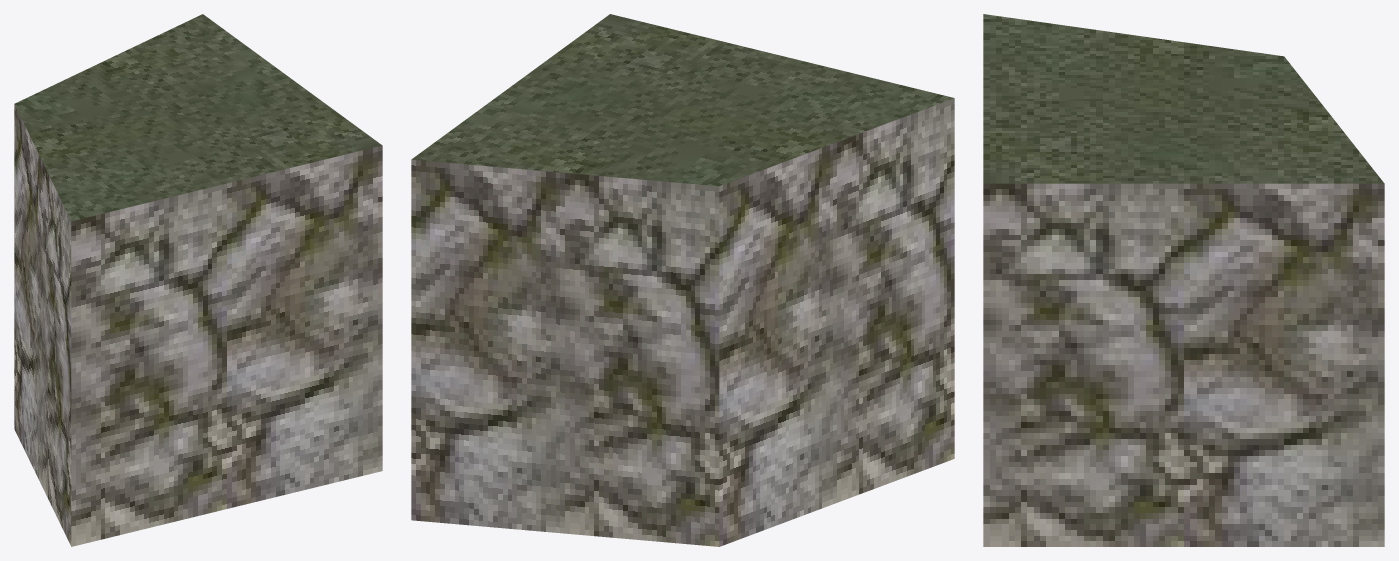
Rendered from kenney-retro-urban-cliff-corner.glb.
3 views of the same model, side by side, from view 1: azimuth 30°, elevation 25°; view 2: azimuth 150°, elevation 25°; view 3: azimuth 270°, elevation 25° (orthographic). The views are drawn at different scales.
Parts seen in each view (by area): view 1: cliff-corner; view 2: cliff-corner; view 3: cliff-corner.
Boxes of the visible parts, x1,y1,x2,y2 form: cliff-corner: (14,14,382,546); cliff-corner: (411,14,954,546); cliff-corner: (983,14,1384,546).
Size of the model in its own units: 1 by 1 by 1.
2 materials, 2 textured.
